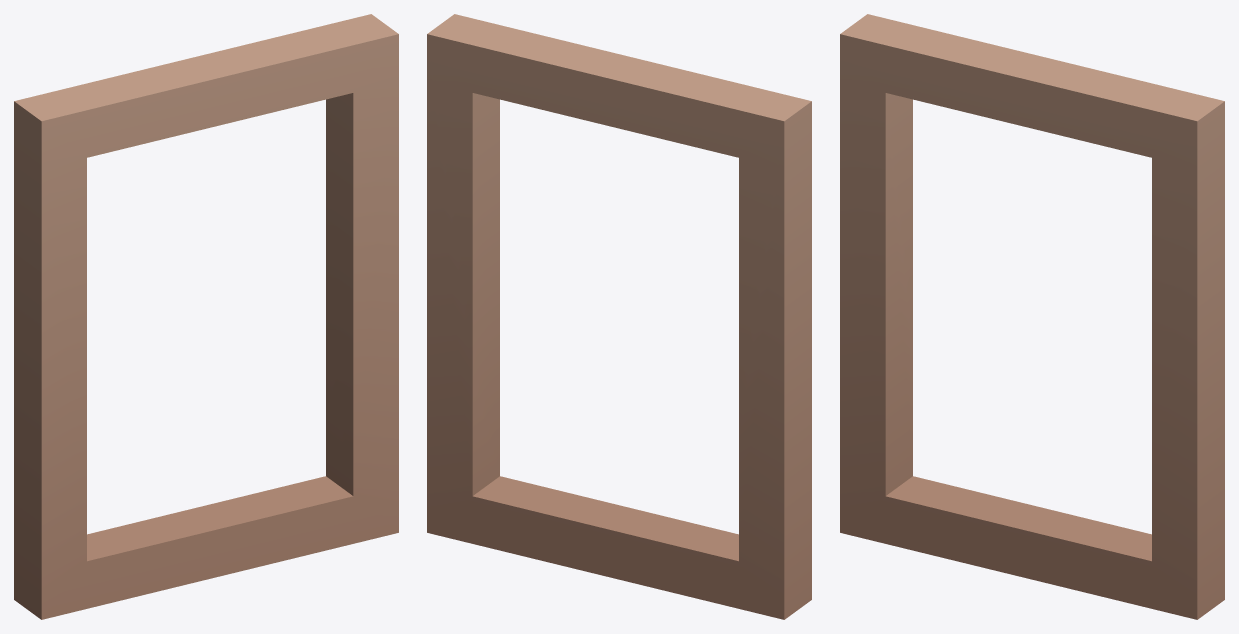
File: window-brown-large.glb
3 renders of one model, left to right at view 1: azimuth 30°, elevation 25°; view 2: azimuth 150°, elevation 25°; view 3: azimuth 330°, elevation 25°, orthographic.
Visible parts, largest first — view 1: window-brown-large; view 2: window-brown-large; view 3: window-brown-large.
Boxes of the visible parts, x1,y1,x2,y2 form: window-brown-large: [14, 14, 398, 619]; window-brown-large: [427, 14, 811, 619]; window-brown-large: [840, 14, 1224, 619].
Size of the model in its own units: 0.375 by 0.5 by 0.05.
